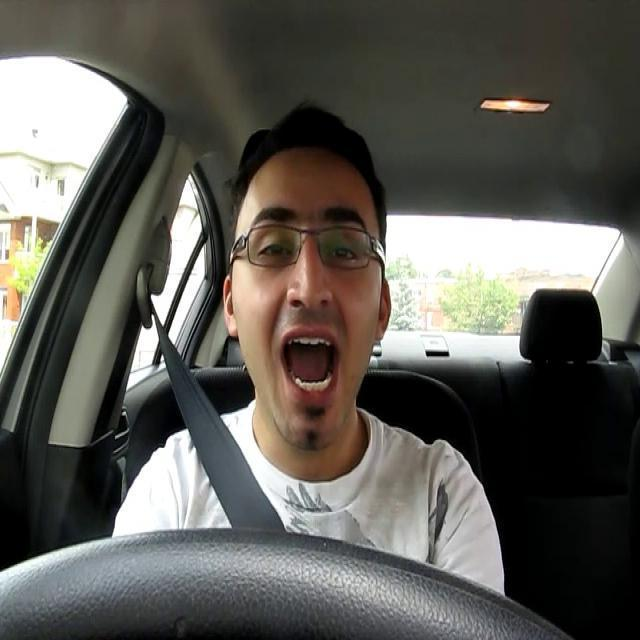open: (320, 202, 370, 270), (250, 199, 298, 267)
